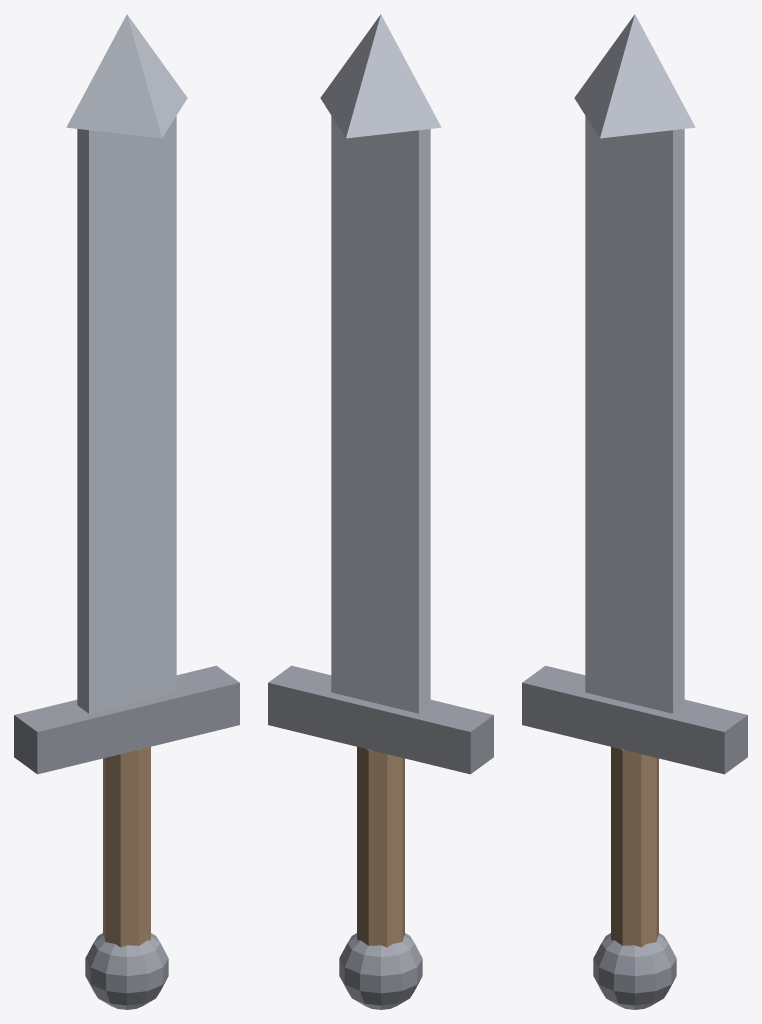
The model's file is greatsword.glb.
3 renders of one model, left to right at view 1: azimuth 30°, elevation 25°; view 2: azimuth 150°, elevation 25°; view 3: azimuth 330°, elevation 25°, orthographic.
Parts seen in each view (by area): view 1: greatsword_03, greatsword_02, greatsword_00, greatsword_04, greatsword_01; view 2: greatsword_03, greatsword_02, greatsword_00, greatsword_04, greatsword_01; view 3: greatsword_03, greatsword_02, greatsword_00, greatsword_04, greatsword_01.
Part boxes in pixels (x1,y1,x2,y2): greatsword_03: (77, 116, 176, 713); greatsword_02: (14, 665, 239, 774); greatsword_00: (103, 747, 150, 947); greatsword_04: (66, 14, 187, 138); greatsword_01: (85, 933, 168, 1009); greatsword_03: (331, 116, 430, 713); greatsword_02: (268, 665, 493, 774); greatsword_00: (357, 747, 404, 947); greatsword_04: (320, 14, 441, 138); greatsword_01: (339, 933, 422, 1009); greatsword_03: (585, 116, 684, 713); greatsword_02: (522, 665, 747, 774); greatsword_00: (611, 747, 658, 947); greatsword_04: (574, 14, 695, 138); greatsword_01: (593, 933, 676, 1009).
Size of the model in its own units: 0.3 by 1.4 by 0.18.
